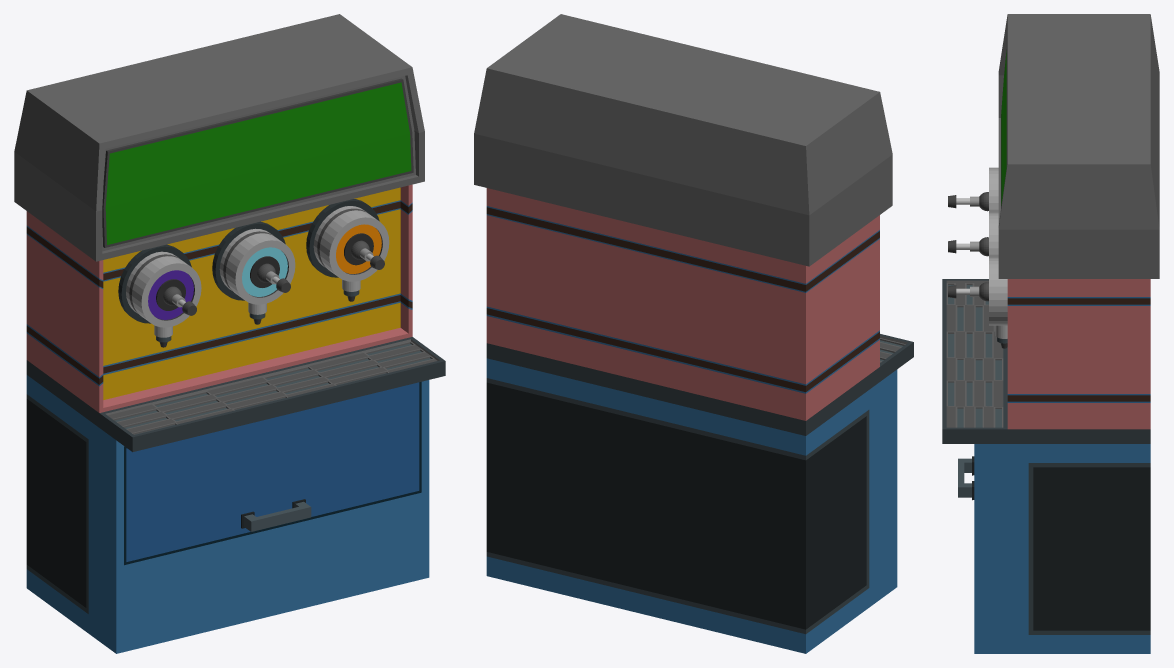
Rendered from Slurpie Machine #1.fbx.
3 views of the same model, side by side, from view 1: azimuth 30°, elevation 25°; view 2: azimuth 150°, elevation 25°; view 3: azimuth 270°, elevation 25° (orthographic). The views are drawn at different scales.
Parts seen in each view (by area): view 1: Slurpie Machine #1; view 2: Slurpie Machine #1; view 3: Slurpie Machine #1.
Boxes of the visible parts, left/top/right/bottom form: Slurpie Machine #1: left=14, top=14, right=445, bottom=653; Slurpie Machine #1: left=474, top=14, right=913, bottom=653; Slurpie Machine #1: left=942, top=14, right=1159, bottom=653.
Bounding box in the file's own units: 118 × 170 × 68.41.
2 materials, 2 textured.
